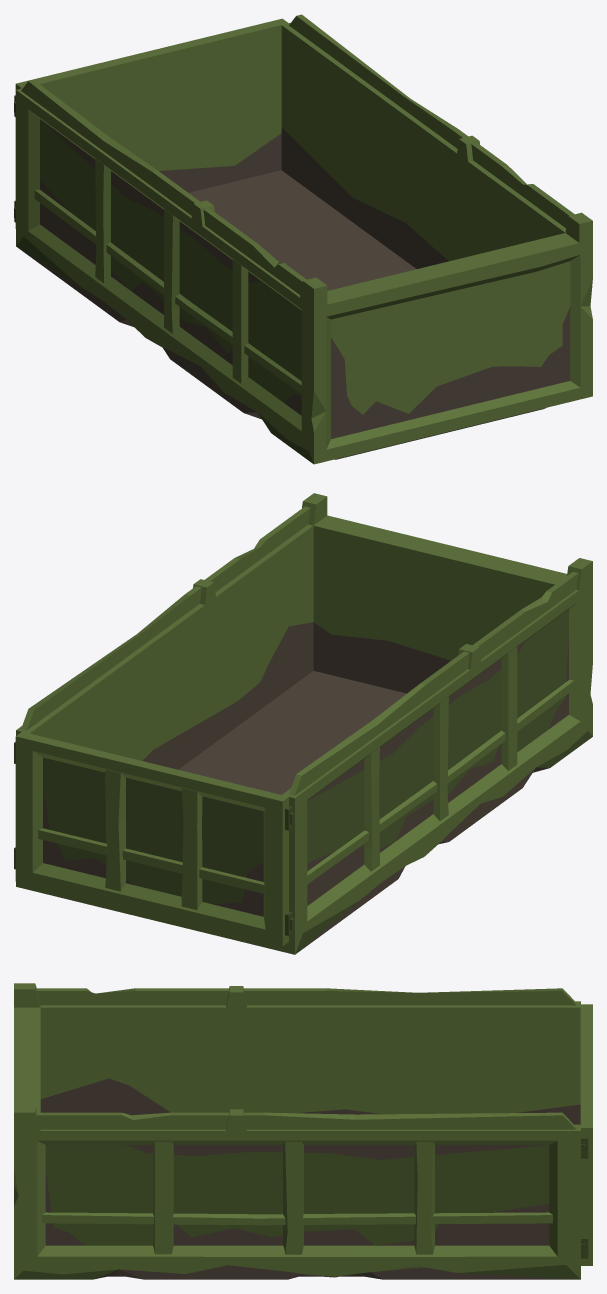
The model's file is SM_Prop_Skip_Large_03.fbx.
3 renders of one model, top to bottom at view 1: azimuth 30°, elevation 25°; view 2: azimuth 150°, elevation 25°; view 3: azimuth 270°, elevation 25°, orthographic. The views are drawn at different scales.
Parts seen in each view (by area): view 1: SM_Prop_Skip_Large_03, SM_Prop_Skip_Large_03_Door; view 2: SM_Prop_Skip_Large_03, SM_Prop_Skip_Large_03_Door; view 3: SM_Prop_Skip_Large_03, SM_Prop_Skip_Large_03_Door.
Part boxes in pixels (x1,y1,x2,y2): SM_Prop_Skip_Large_03: (14,14,592,464); SM_Prop_Skip_Large_03_Door: (14,18,288,228); SM_Prop_Skip_Large_03: (16,493,592,954); SM_Prop_Skip_Large_03_Door: (14,732,292,946); SM_Prop_Skip_Large_03: (14,983,585,1279); SM_Prop_Skip_Large_03_Door: (580,1004,592,1265).
Size of the model in its own units: 325 by 211 by 614.
